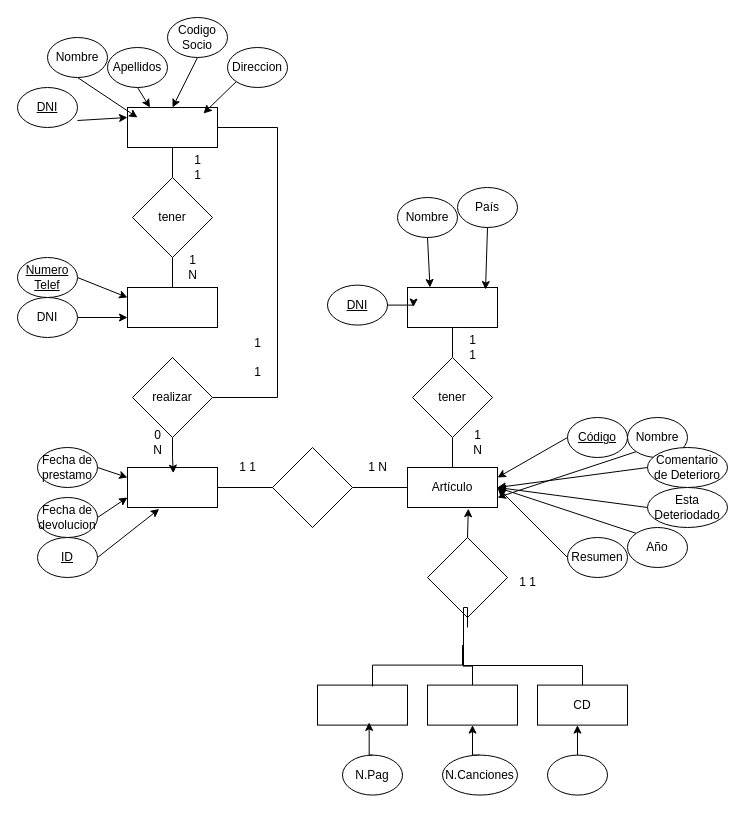
Some shapes in this 745 by 813 pixel diagram are drawn without their labels. Here are the shapes that lost their labels. From the top down, the centre of each, then its label:
point (172, 127): Socio
point (172, 307): Telefono
point (452, 307): Autor
point (172, 487): Préstamo
point (312, 487): involucrar
point (467, 577): ser
point (362, 704): Libro
point (472, 704): Película
point (577, 774): Duracion
